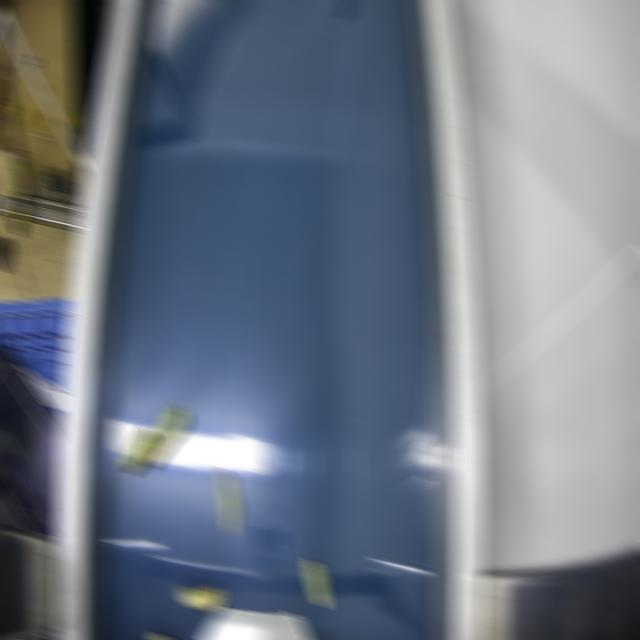Baby Potato: (143, 405, 192, 466), (119, 426, 155, 474), (216, 467, 238, 537), (178, 578, 223, 612), (305, 558, 328, 610)
